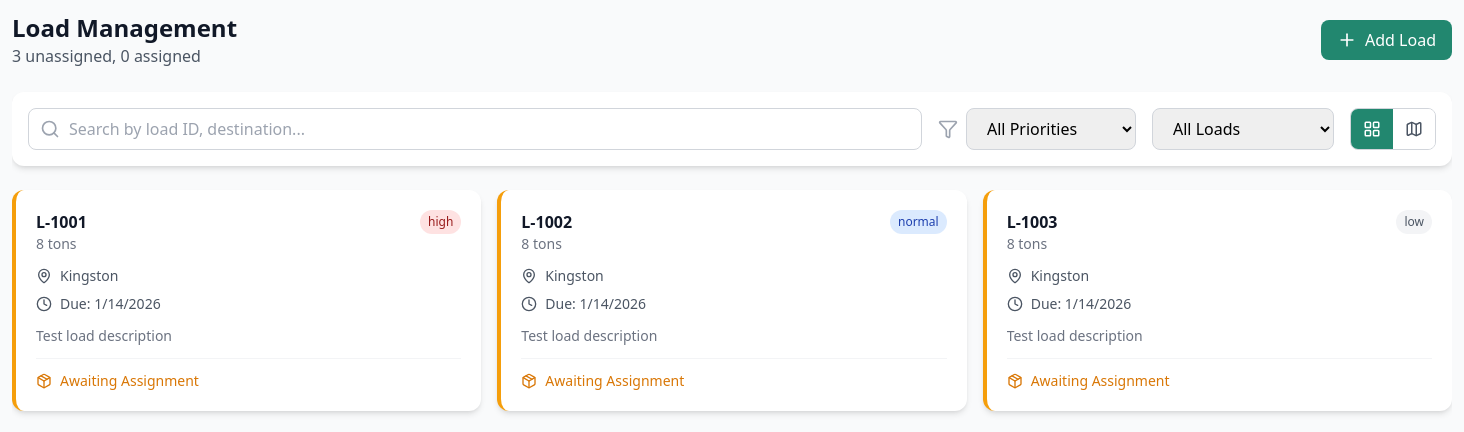
Test: LoadList › filtering › should filter by priority - high
Step 1. Select "High Priority" in the 1st dropdown → x=1051, y=129, box [966,108,1136,150]
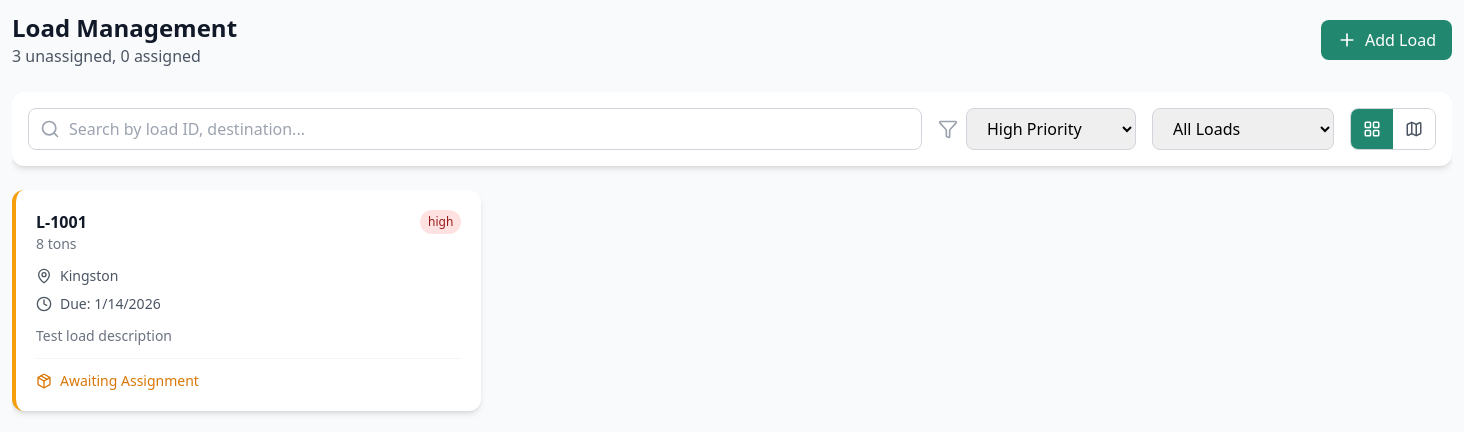
Expected: the heading "L-1001" is shown, [36,210,87,234]
Now the heading "L-1002" is gone
Now the heading "L-1003" is gone
